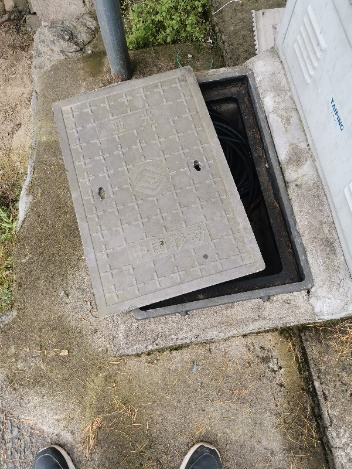uncovered: (52, 63, 314, 325)
